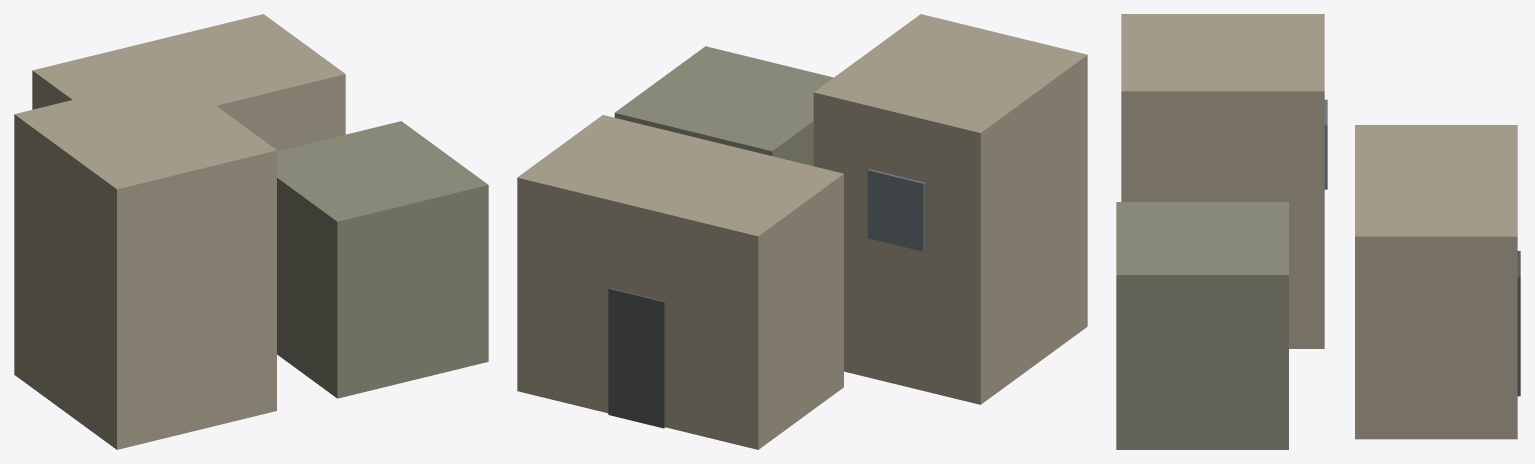
Rendered from town-block.glb.
3 renders of one model, left to right at view 1: azimuth 30°, elevation 25°; view 2: azimuth 150°, elevation 25°; view 3: azimuth 270°, elevation 25°, orthographic. The views are drawn at different scales.
Parts seen in each view (by area): view 1: town-block-0, town-block-1, town-block-2; view 2: town-block-2, town-block-0, town-block-1, town-block-4, town-block-3; view 3: town-block-2, town-block-0, town-block-1, town-block-4.
Boxes of the visible parts, x1,y1,x2,y2 form: town-block-0: (14, 75, 276, 449); town-block-1: (277, 121, 488, 398); town-block-2: (32, 14, 345, 151); town-block-2: (517, 115, 843, 449); town-block-0: (813, 14, 1087, 404); town-block-1: (614, 46, 833, 166); town-block-4: (608, 287, 665, 428); town-block-3: (867, 169, 924, 251); town-block-2: (1355, 125, 1517, 439); town-block-0: (1121, 14, 1324, 348); town-block-1: (1116, 202, 1288, 449); town-block-4: (1517, 251, 1520, 396).
Bounding box in the file's own units: 4.15 × 2.8 × 3.98.
